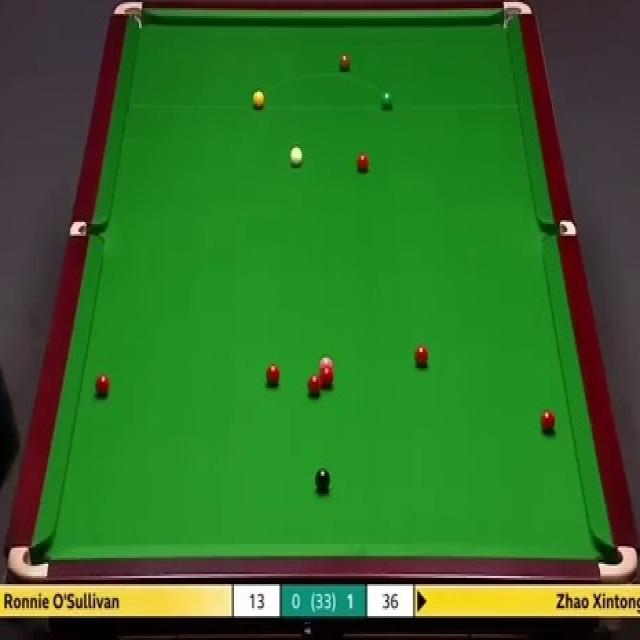black-ball: (315, 468, 330, 492)
brown-ball: (338, 53, 351, 70)
green-ball: (380, 89, 393, 110)
pink-ball: (318, 354, 335, 372)
red-ball: (540, 408, 557, 435), (413, 342, 429, 368), (265, 363, 281, 387), (357, 152, 370, 176), (308, 375, 322, 397), (96, 374, 110, 395), (318, 370, 334, 387)
white-ball: (289, 145, 303, 166)
yellow-ball: (253, 90, 265, 110)
